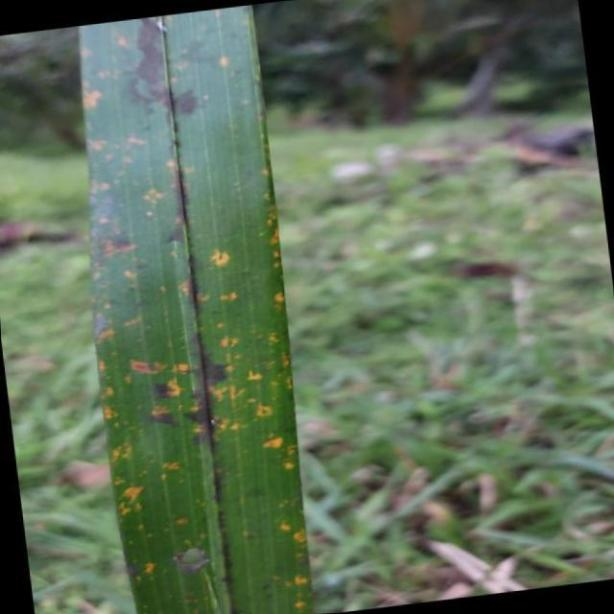Healthy: (77, 0, 312, 614)
